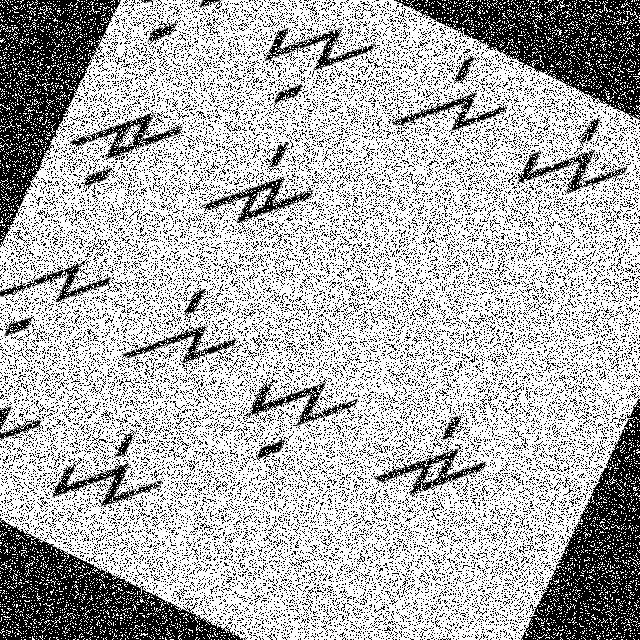le: (107, 262, 254, 402), (379, 32, 524, 173)
lu: (0, 230, 120, 370), (121, 0, 267, 76), (0, 355, 54, 513)
re: (357, 373, 516, 528), (192, 114, 336, 266)
ru: (49, 75, 193, 220)
ye: (32, 400, 181, 538), (506, 92, 639, 237)
yu: (238, 0, 390, 143), (226, 340, 370, 489)
